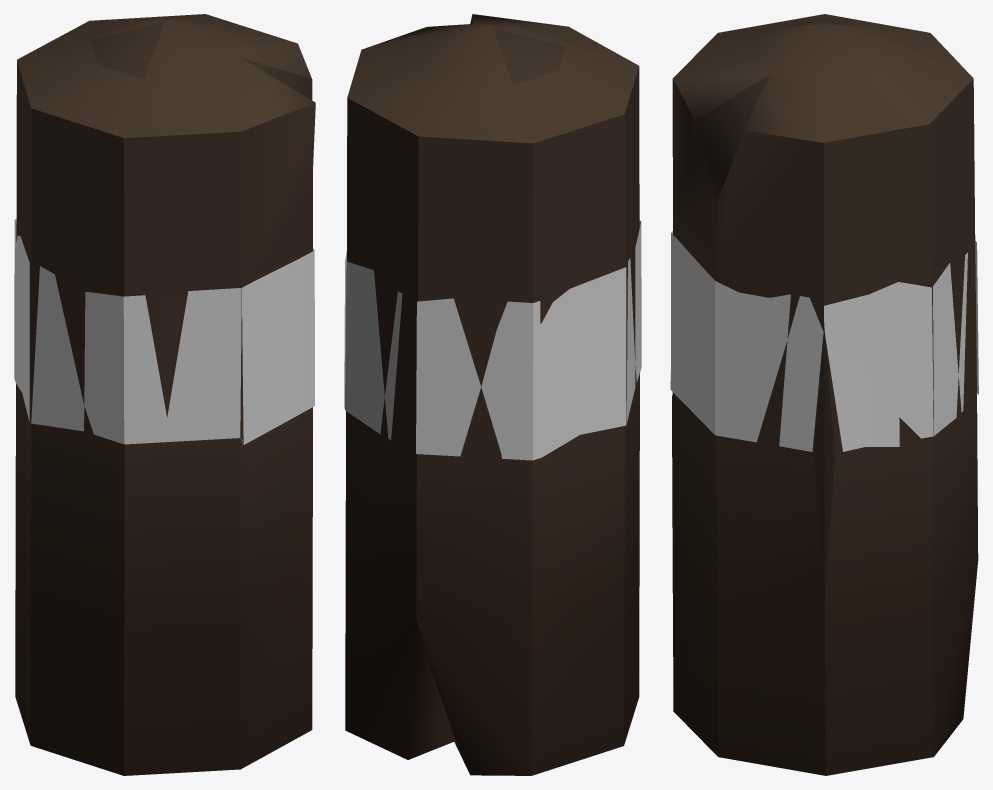
The model's file is distancePole.fbx.
3 renders of one model, left to right at view 1: azimuth 30°, elevation 25°; view 2: azimuth 150°, elevation 25°; view 3: azimuth 270°, elevation 25°, orthographic.
Visible parts, largest first — view 1: pCylinder2, pCylinder1; view 2: pCylinder2, pCylinder1; view 3: pCylinder2, pCylinder1.
Boxes of the visible parts, box(x1,y1,x2,y2) form: pCylinder2: box(15, 14, 315, 775); pCylinder1: box(14, 218, 314, 444); pCylinder2: box(345, 14, 639, 775); pCylinder1: box(344, 221, 641, 460); pCylinder2: box(672, 14, 978, 775); pCylinder1: box(670, 231, 978, 451).
Bounding box in the file's own units: 1.11 × 2.74 × 1.11.
